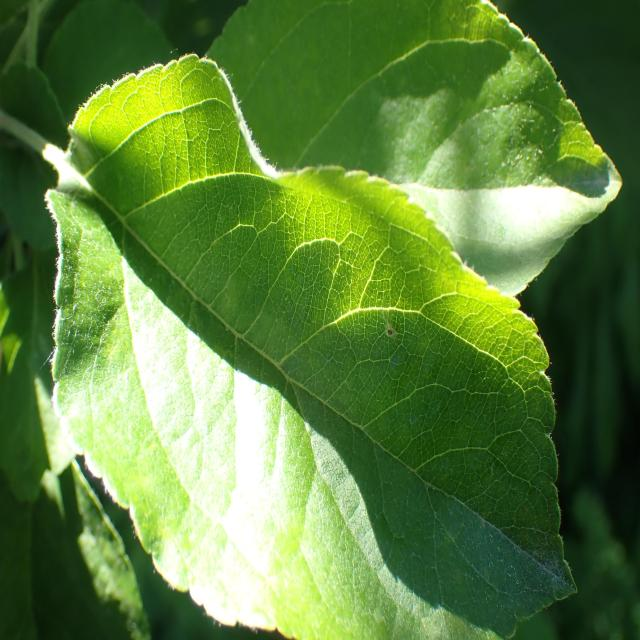healthy: (43, 52, 579, 640), (203, 0, 623, 299), (0, 252, 152, 640)
